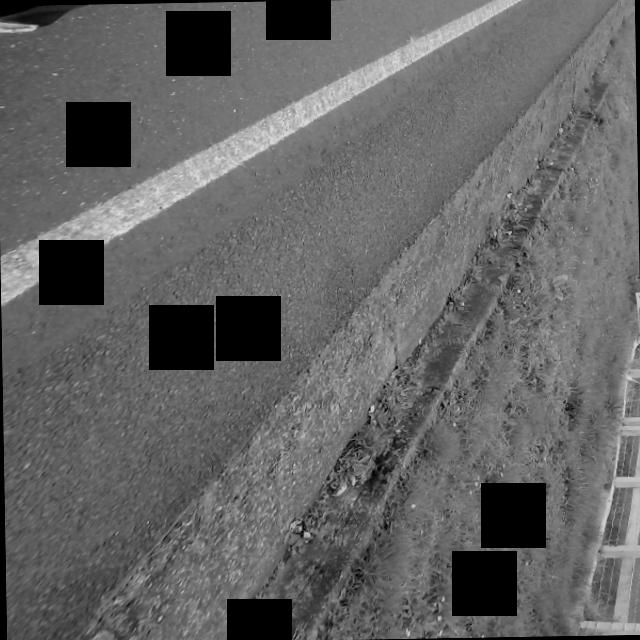DITCH: (0, 0, 640, 640), (0, 0, 640, 640), (0, 0, 544, 640)
